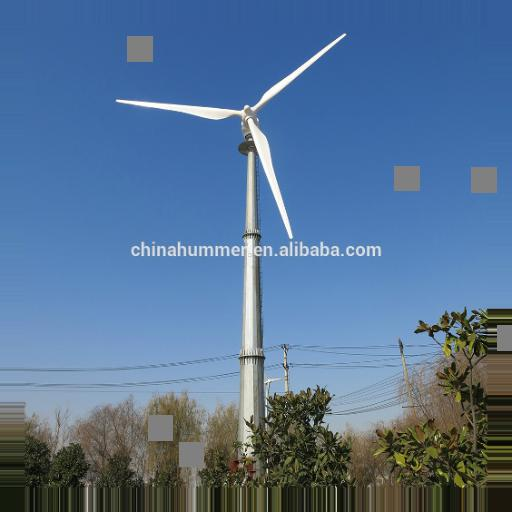wind turbine: (114, 33, 349, 464)
